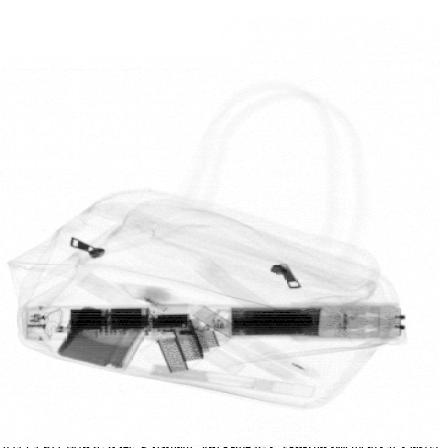Baton: (14, 304, 409, 341)
